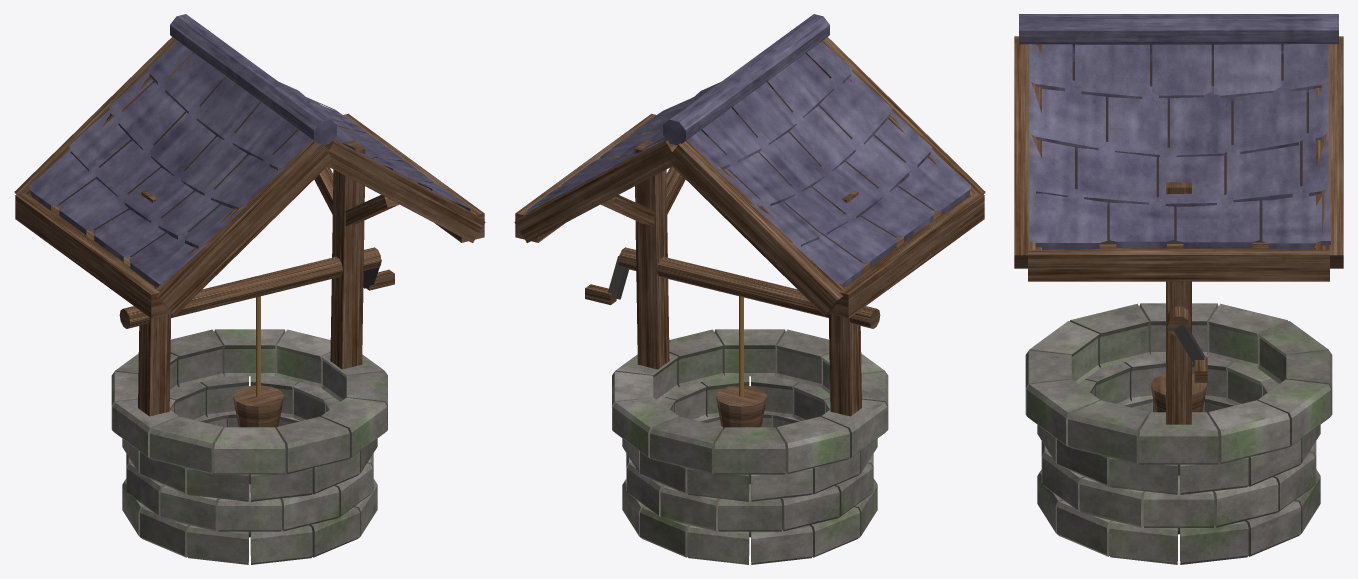
Rendered from well.glb.
3 renders of one model, left to right at view 1: azimuth 30°, elevation 25°; view 2: azimuth 150°, elevation 25°; view 3: azimuth 270°, elevation 25°, orthographic. The views are drawn at different scales.
Visible parts, largest first — view 1: well; view 2: well; view 3: well.
Boxes of the visible parts, x1,y1,x2,y2 form: well: [14, 14, 485, 564]; well: [514, 14, 985, 564]; well: [1014, 14, 1343, 564].
Bounding box in the file's own units: 2.32 × 2.95 × 1.79.
6 materials, 3 textured.
